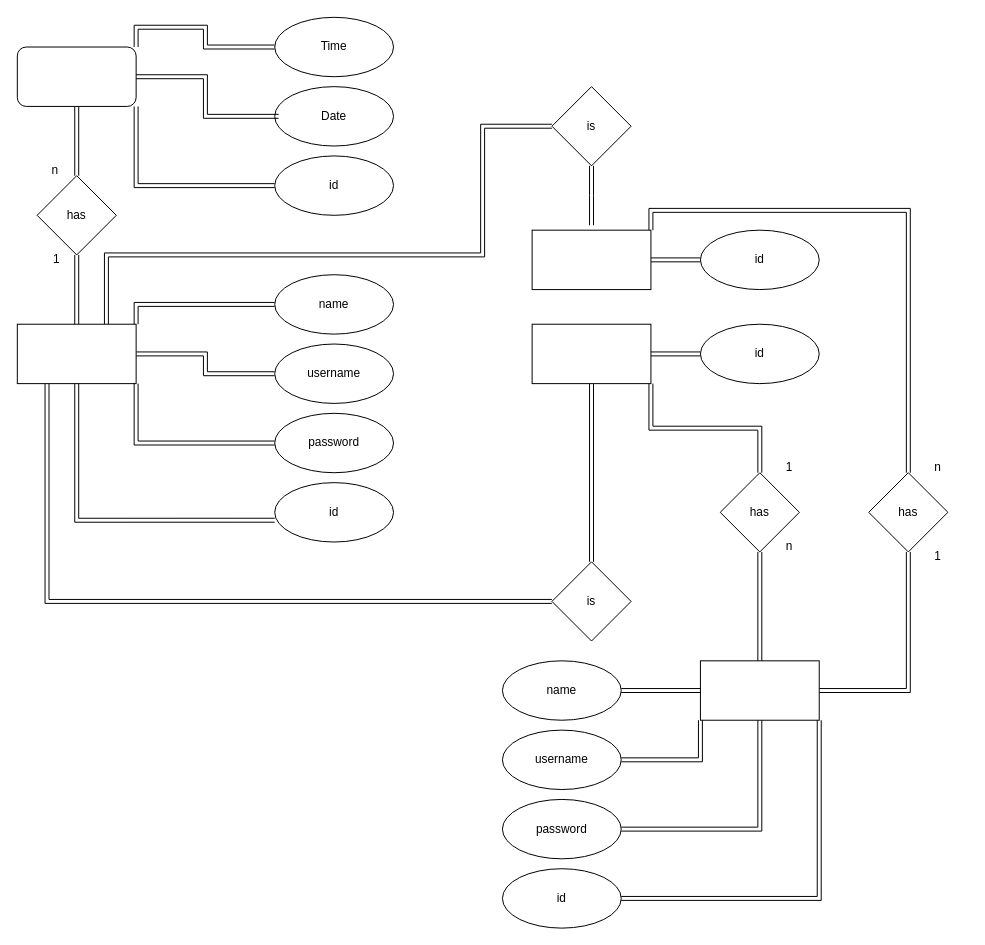
This 985x945 diagram has some shape labels left out. The centre of each missing label's shape, as x and y in pixels:
"Admin" goes at (591,353).
"Create user" goes at (759,690).
"Person" goes at (76,353).
"Request" goes at (76,76).
"User" goes at (591,259).
